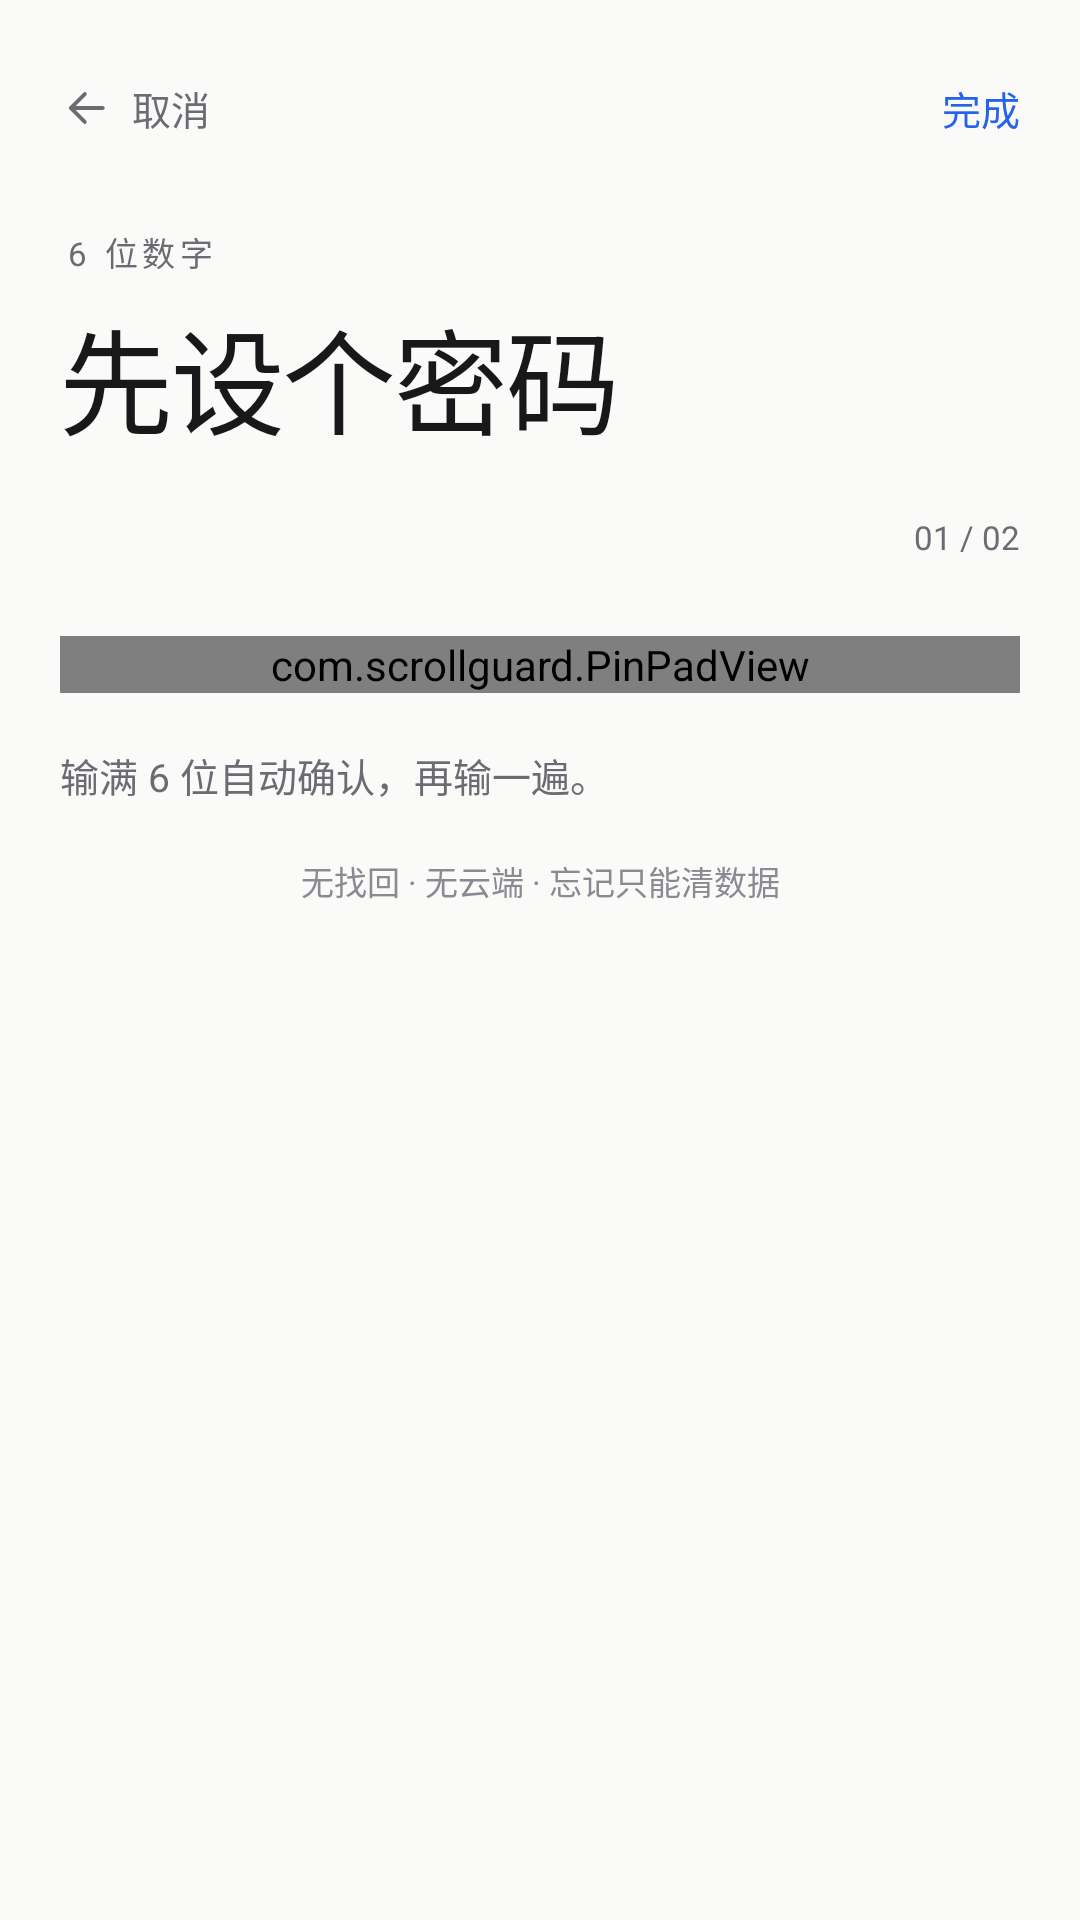

Where icons sit on this 1080w x 1920h app screen, as (x1, y1, x2, y2):
arrow left: (69, 92, 105, 124)
